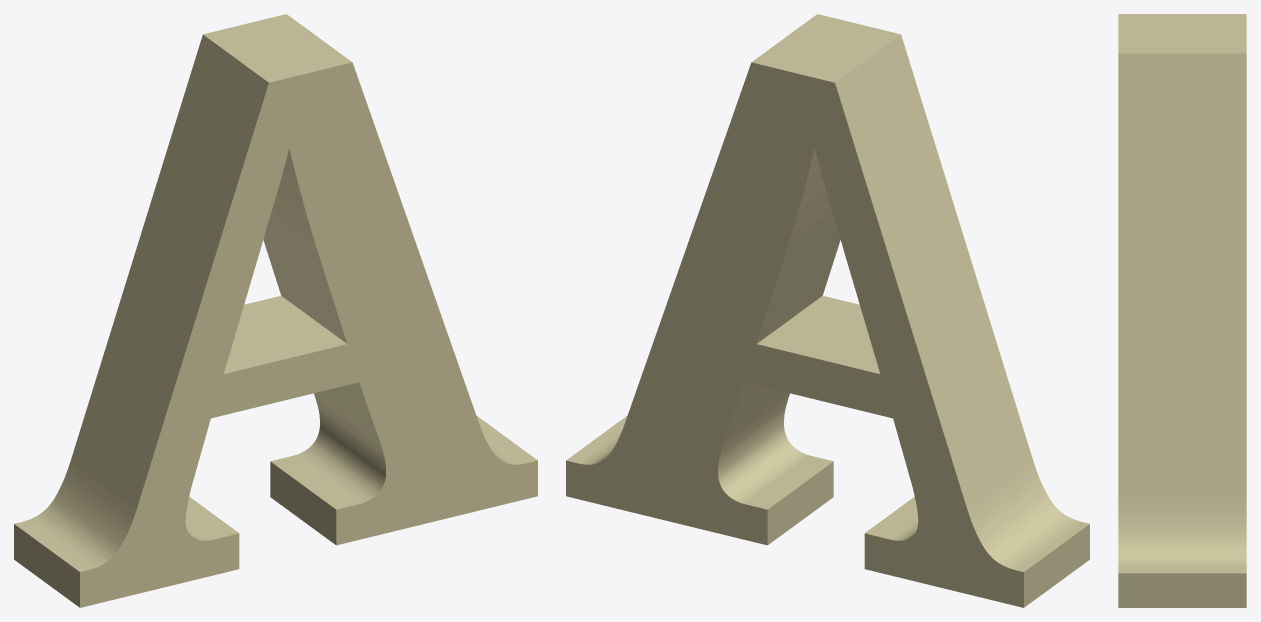
The picture shows the model from 3 angles, left to right: view 1: azimuth 30°, elevation 25°; view 2: azimuth 150°, elevation 25°; view 3: azimuth 270°, elevation 25°; orthographic projection. The views are drawn at different scales.
Parts seen in each view (by area): view 1: Mesh_Mesh_head_geo.001_lambert2SG.001; view 2: Mesh_Mesh_head_geo.001_lambert2SG.001; view 3: Mesh_Mesh_head_geo.001_lambert2SG.001.
Part boxes in pixels (box(x1,y1,x2,y2)): Mesh_Mesh_head_geo.001_lambert2SG.001: box(14, 14, 537, 607); Mesh_Mesh_head_geo.001_lambert2SG.001: box(566, 14, 1089, 607); Mesh_Mesh_head_geo.001_lambert2SG.001: box(1118, 14, 1246, 607).
Size of the model in its own units: 16 by 16 by 4.
